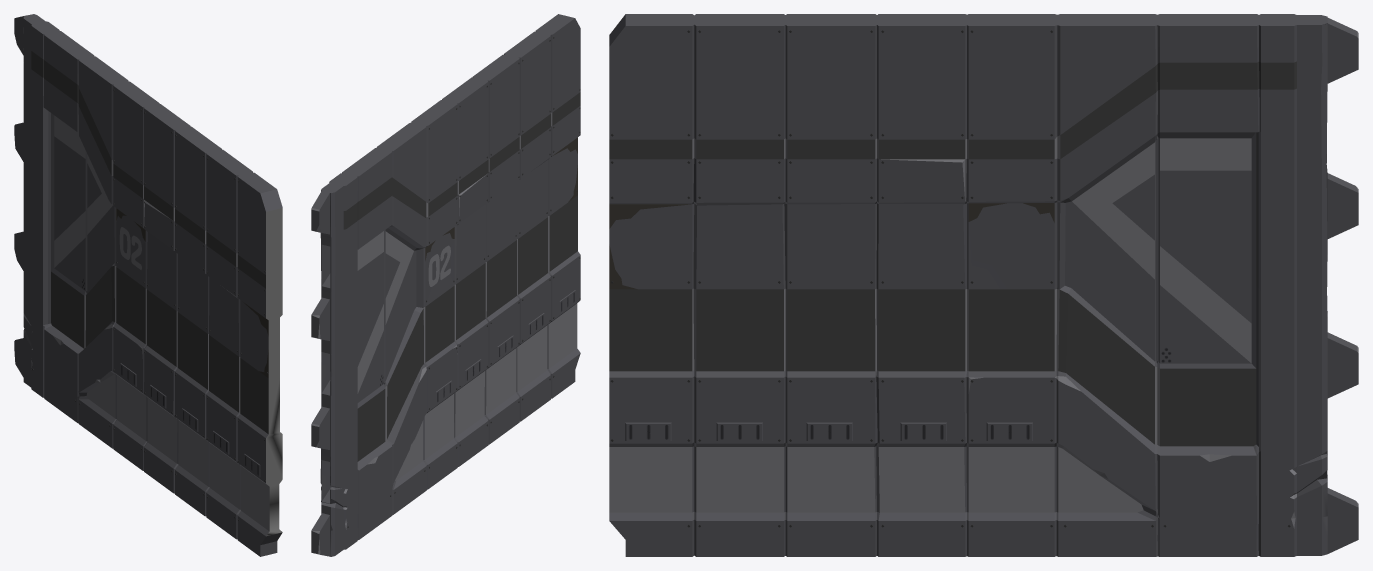
File: SM_Bld_HangerExteriorDoor_02.fbx
3 views of the same model, side by side, from view 1: azimuth 30°, elevation 25°; view 2: azimuth 150°, elevation 25°; view 3: azimuth 270°, elevation 25° (orthographic). The views are drawn at different scales.
Parts seen in each view (by area): view 1: SM_Bld_HangerExteriorDoor_02_LOD0; view 2: SM_Bld_HangerExteriorDoor_02_LOD0; view 3: SM_Bld_HangerExteriorDoor_02_LOD0.
Part boxes in pixels (<box>): SM_Bld_HangerExteriorDoor_02_LOD0: <box>14,14,282,556</box>; SM_Bld_HangerExteriorDoor_02_LOD0: <box>311,14,580,556</box>; SM_Bld_HangerExteriorDoor_02_LOD0: <box>609,14,1358,556</box>.
Size of the model in its own units: 1401 by 57.77 by 1095.
1 material, 1 textured.
